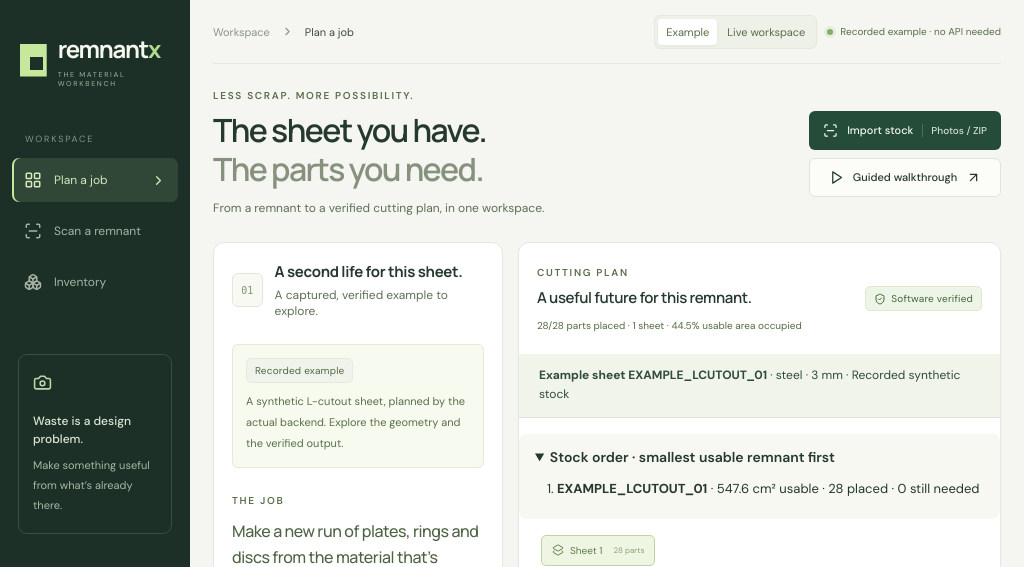
Test: example and live separation › keeps the key-free example usable while exposing an unavailable live backend
Expected: the text "Software verified" is shown, x1=865 y1=286 x2=982 y2=311
Expected: the text "Recorded example · no API needed" is shown, x1=827 y1=25 x2=1001 y2=38
Click the button "Live workspace": (766, 32) x1=719 y1=18 x2=813 y2=44
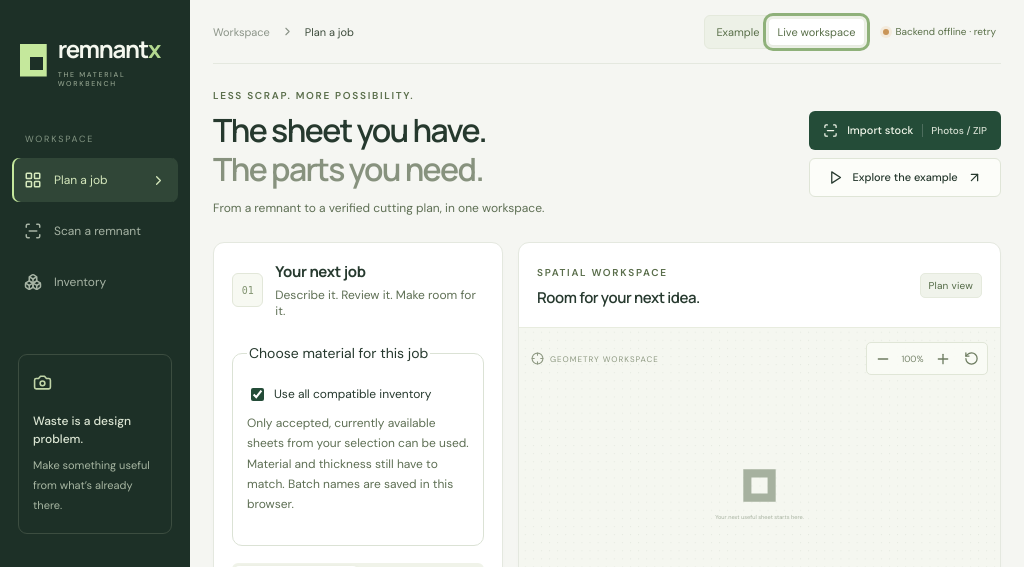
Expected: the button "Backend offline · retry" is shown, x1=878 y1=20 x2=1001 y2=43
